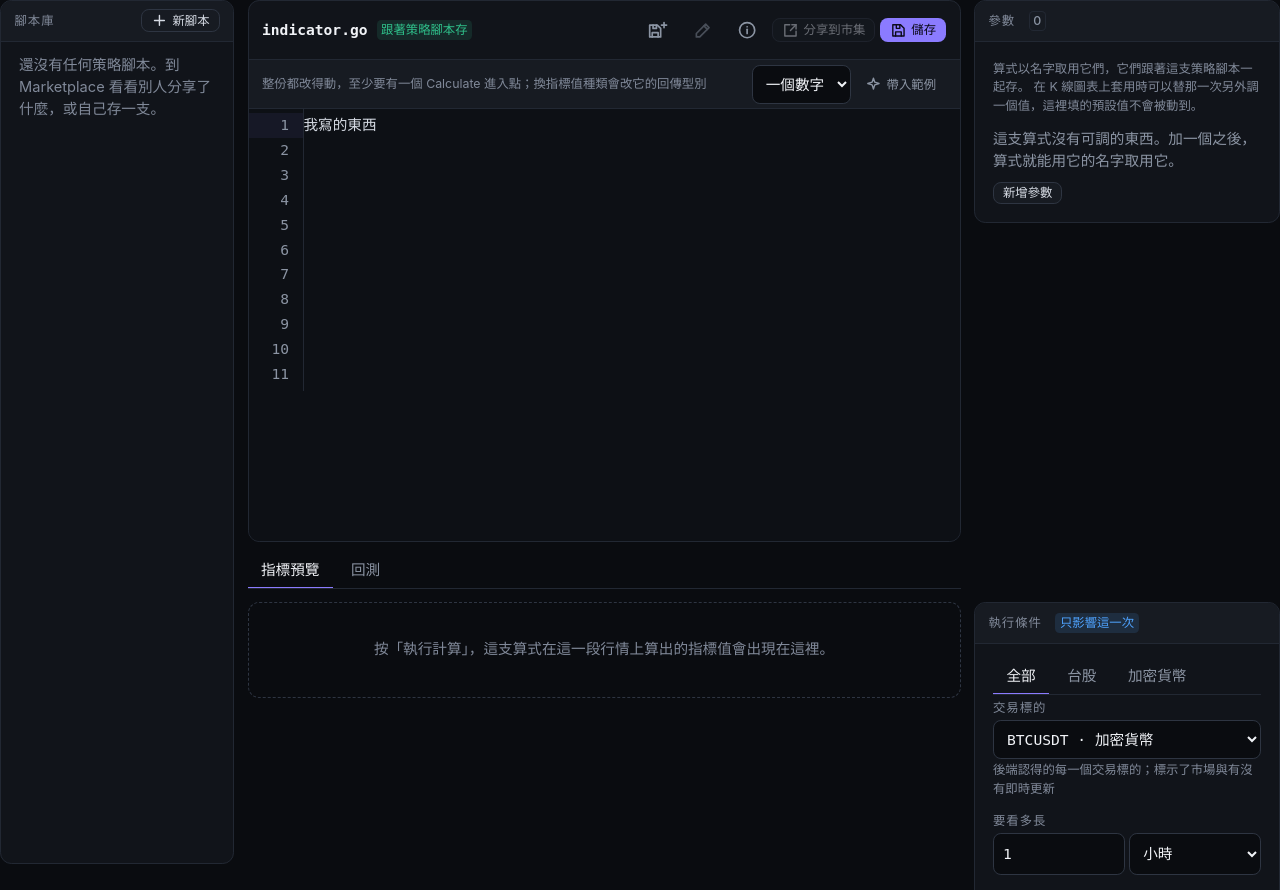
it: 策略腳本畫面上的策略腳本：存回去 › 連不上後端時說連不上，畫面內容一字不動
Clear the field with class "cm-content" at (340, 125), box [304,116,376,133]
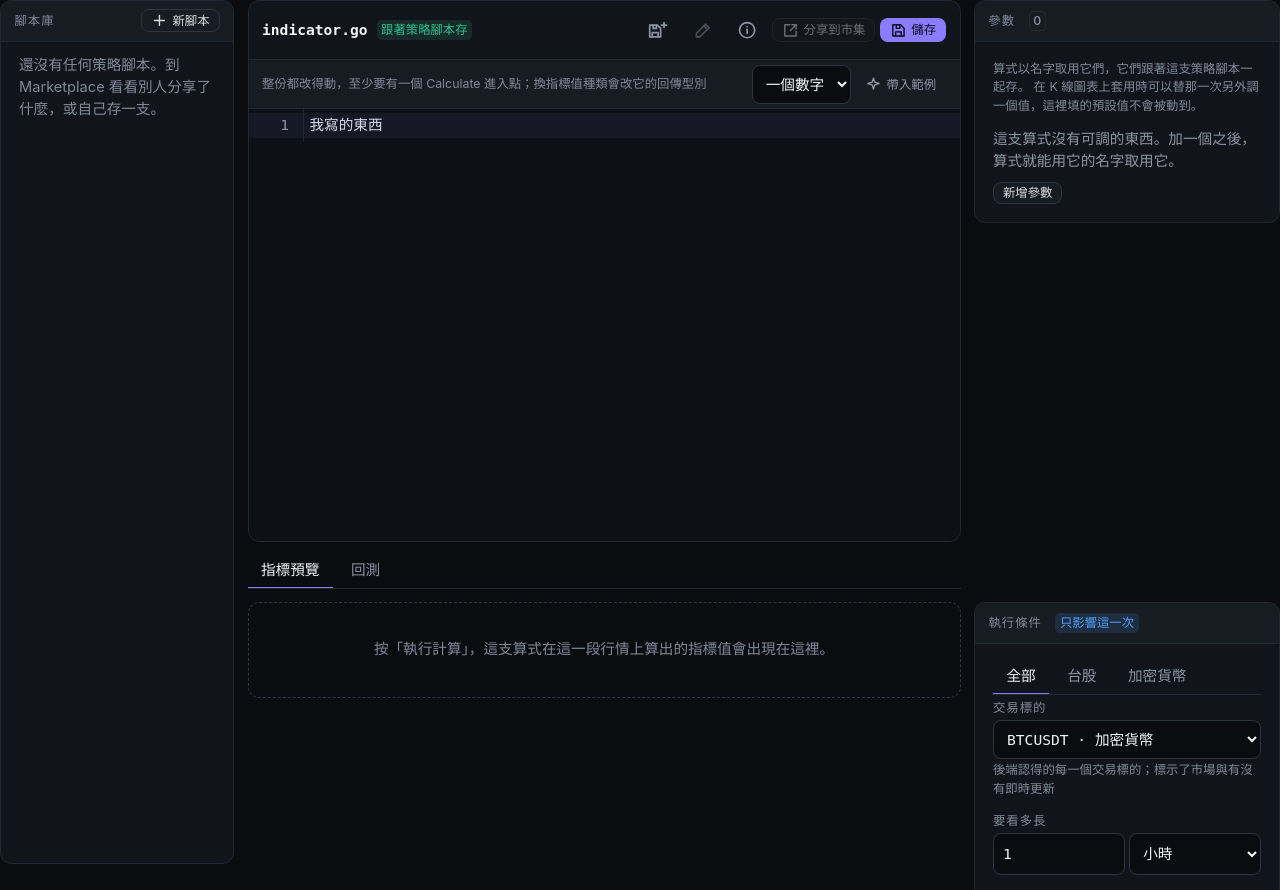
Click the button with test id "save-as-strategy-script-button" at (658, 30), box [638,10,678,50]
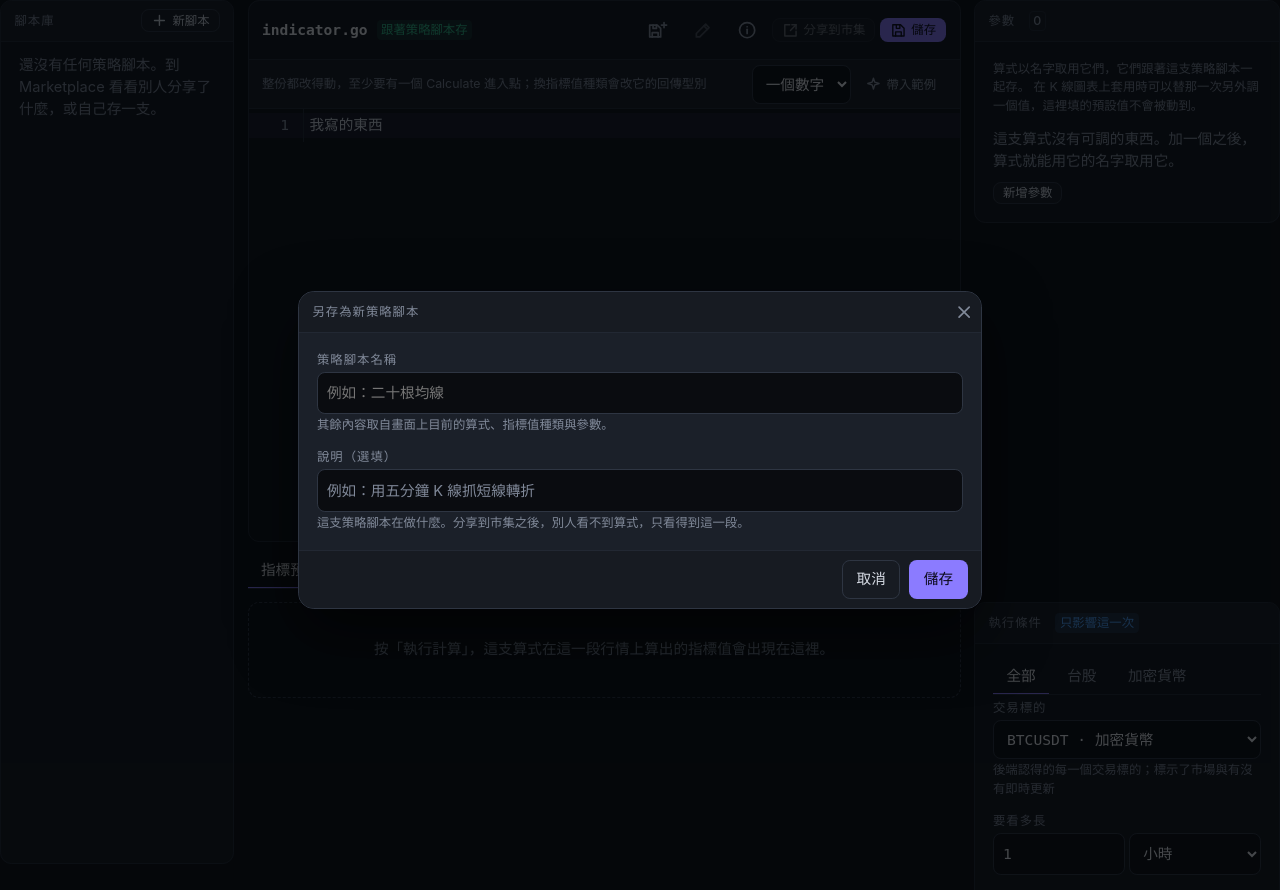
Type "新的一支" into the field with test id "strategy-script-name-input" at (640, 393), box [317,372,963,414]
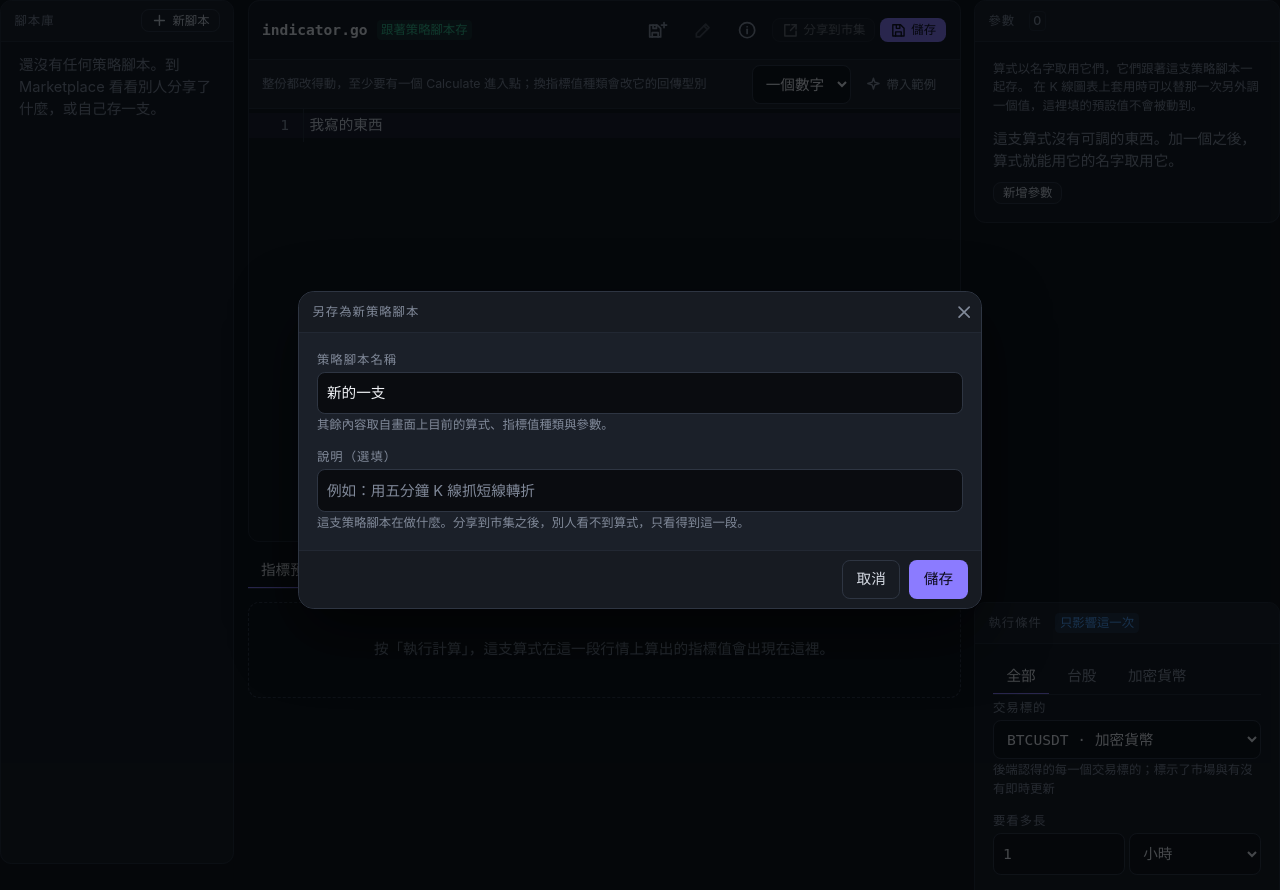
Click the button with test id "strategy-script-name-submit" at (938, 580), box [909,560,968,599]
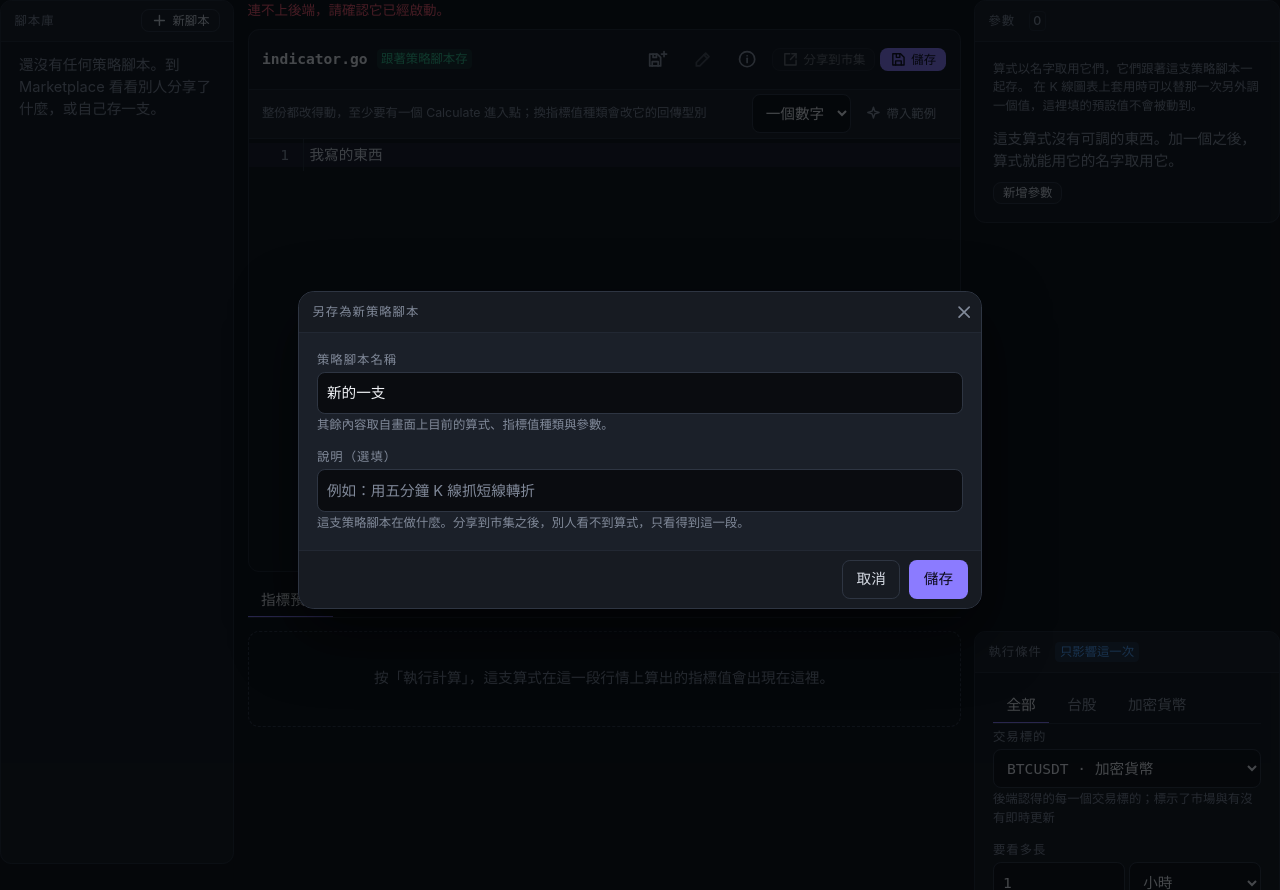
Expected: the text box labelled "我寫的東西" is shown, [304,142,960,167]
Now the text with test id "strategy-script-error" shows "連不上後端", box [248,2,450,18]
